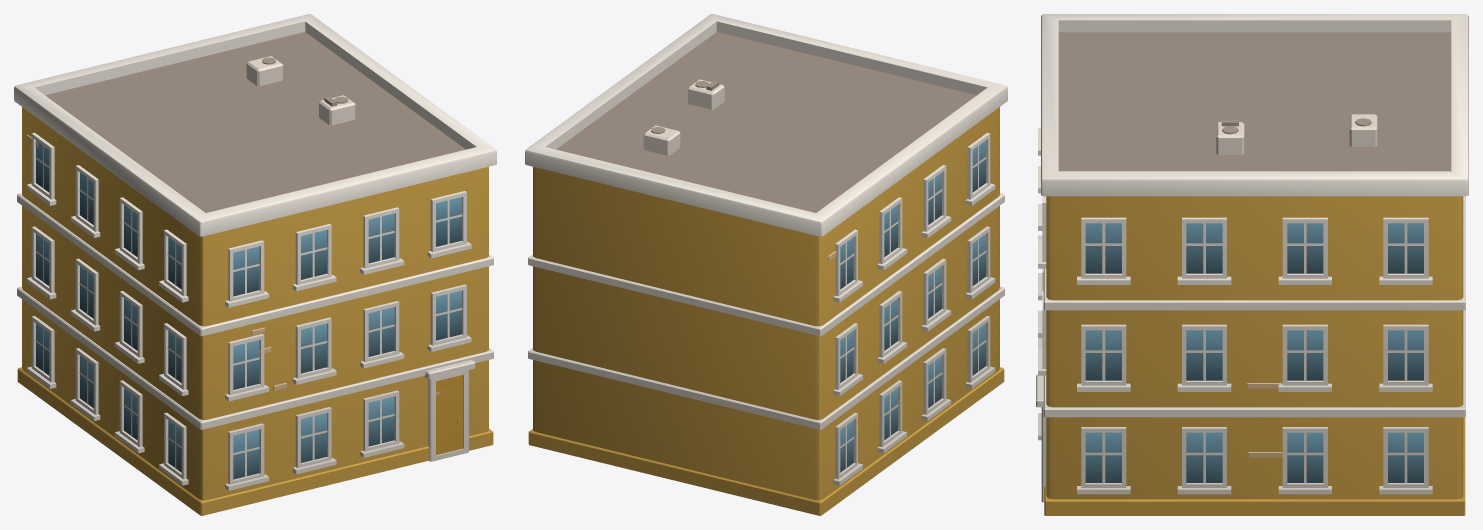
The model's file is vee_right0.glb.
The picture shows the model from 3 angles, left to right: view 1: azimuth 30°, elevation 25°; view 2: azimuth 150°, elevation 25°; view 3: azimuth 270°, elevation 25°; orthographic projection. The views are drawn at different scales.
Parts seen in each view (by area): view 1: vee_right0; view 2: vee_right0; view 3: vee_right0.
Boxes of the visible parts, x1=… form: vee_right0: x1=14, y1=14, x2=496, y2=515; vee_right0: x1=525, y1=14, x2=1007, y2=515; vee_right0: x1=1036, y1=14, x2=1468, y2=515.
Bounding box in the file's own units: 11.48 × 11.11 × 12.46.
Materials: 1 (1 with a texture image).
